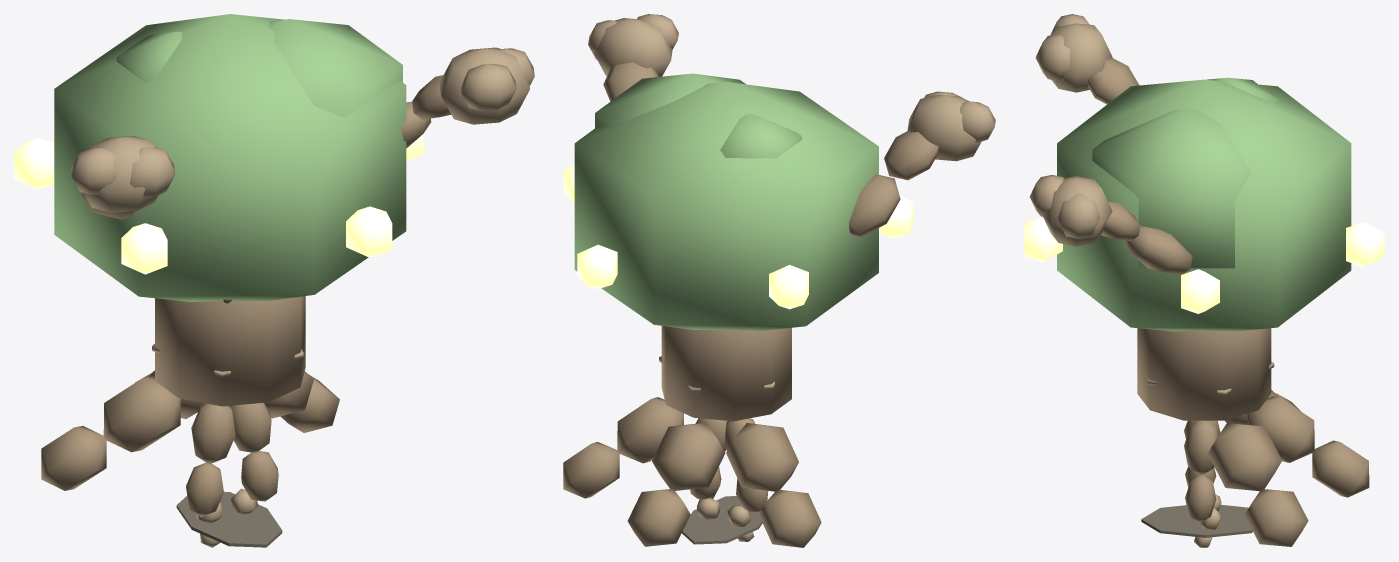
File: holy_tree_guard_idle.fbx
3 renders of one model, left to right at view 1: azimuth 30°, elevation 25°; view 2: azimuth 150°, elevation 25°; view 3: azimuth 270°, elevation 25°, orthographic. The views are drawn at different scales.
Parts seen in each view (by area): view 1: Head_holy_tree_guard, Body_holy_tree_guard, Arm_R_holy_tree_guard, Arm_L_holy_tree_guard, Leg_L_holy_tree_guard, Leg_R_holy_tree_guard, Shadow_holy_tree_guard; view 2: Head_holy_tree_guard, Body_holy_tree_guard, Arm_L_holy_tree_guard, Arm_R_holy_tree_guard, Shadow_holy_tree_guard, Leg_L_holy_tree_guard, Leg_R_holy_tree_guard; view 3: Head_holy_tree_guard, Body_holy_tree_guard, Arm_R_holy_tree_guard, Arm_L_holy_tree_guard, Leg_R_holy_tree_guard, Shadow_holy_tree_guard, Leg_L_holy_tree_guard.
Boxes of the visible parts, x1=… form: Head_holy_tree_guard: x1=54, y1=14, x2=406, y2=301; Body_holy_tree_guard: x1=14, y1=133, x2=424, y2=490; Arm_R_holy_tree_guard: x1=401, y1=47, x2=534, y2=148; Arm_L_holy_tree_guard: x1=70, y1=136, x2=175, y2=219; Leg_L_holy_tree_guard: x1=186, y1=403, x2=235, y2=547; Leg_R_holy_tree_guard: x1=229, y1=402, x2=278, y2=514; Shadow_holy_tree_guard: x1=176, y1=491, x2=282, y2=547; Head_holy_tree_guard: x1=574, y1=73, x2=878, y2=330; Body_holy_tree_guard: x1=563, y1=166, x2=913, y2=547; Arm_L_holy_tree_guard: x1=849, y1=91, x2=995, y2=237; Arm_R_holy_tree_guard: x1=588, y1=14, x2=678, y2=101; Shadow_holy_tree_guard: x1=682, y1=496, x2=762, y2=544; Leg_L_holy_tree_guard: x1=724, y1=418, x2=768, y2=541; Leg_R_holy_tree_guard: x1=690, y1=418, x2=727, y2=519; Head_holy_tree_guard: x1=1057, y1=77, x2=1351, y2=331; Body_holy_tree_guard: x1=1024, y1=217, x2=1384, y2=546; Arm_R_holy_tree_guard: x1=1029, y1=175, x2=1192, y2=274; Arm_L_holy_tree_guard: x1=1035, y1=14, x2=1139, y2=104; Leg_R_holy_tree_guard: x1=1184, y1=420, x2=1221, y2=547; Shadow_holy_tree_guard: x1=1141, y1=504, x2=1252, y2=537; Leg_L_holy_tree_guard: x1=1184, y1=420, x2=1221, y2=511.
Bounding box in the file's own units: 194 × 210 × 149.
